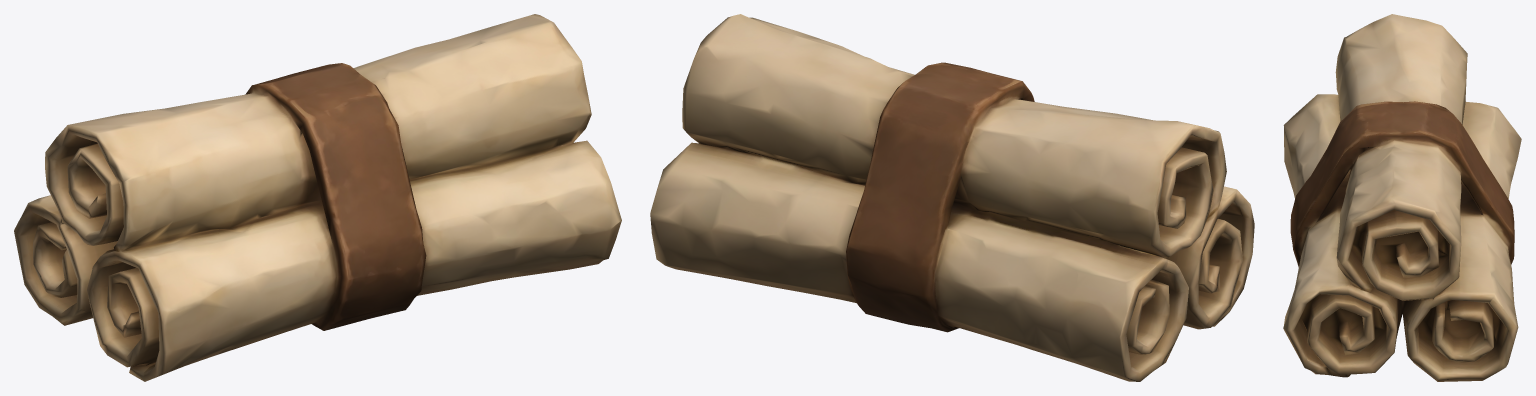
File: library-parchment-bundle.glb
3 renders of one model, left to right at view 1: azimuth 30°, elevation 25°; view 2: azimuth 150°, elevation 25°; view 3: azimuth 270°, elevation 25°, orthographic. The views are drawn at different scales.
Visible parts, largest first — view 1: library-parchment-bundle; view 2: library-parchment-bundle; view 3: library-parchment-bundle.
Boxes of the visible parts, box(x1,y1,x2,y2) form: library-parchment-bundle: box(14, 14, 621, 381); library-parchment-bundle: box(650, 14, 1254, 381); library-parchment-bundle: box(1283, 14, 1521, 381).
Bounding box in the file's own units: 0.3 × 0.1341 × 0.1562.
Materials: 1 (1 with a texture image).
